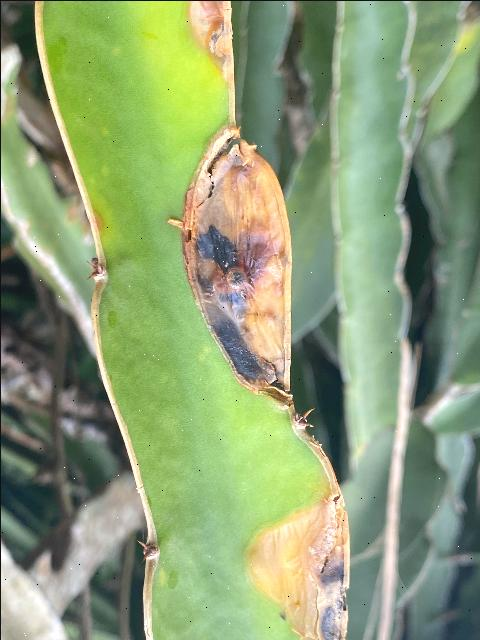stemcanker: (177, 132, 300, 404), (244, 497, 354, 640)
